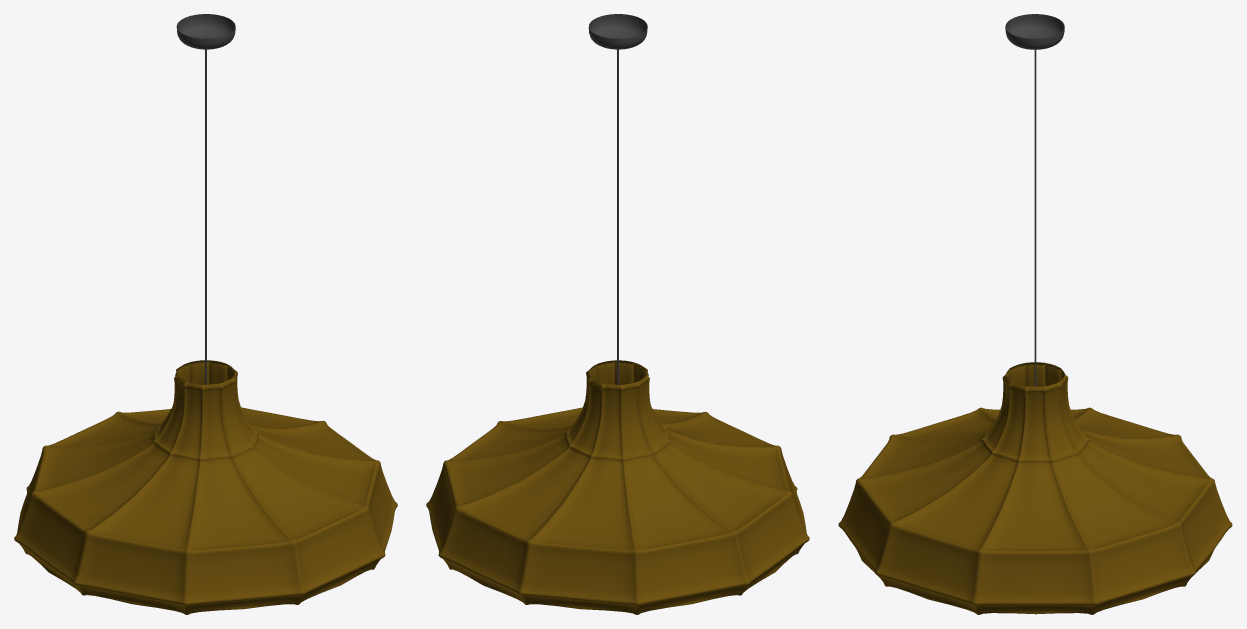
File: lamp_01.fbx
3 renders of one model, left to right at view 1: azimuth 30°, elevation 25°; view 2: azimuth 150°, elevation 25°; view 3: azimuth 270°, elevation 25°, orthographic.
Visible parts, largest first — view 1: Circle.002, Circle.006, Cylinder; view 2: Circle.002, Circle.006, Cylinder; view 3: Circle.002, Circle.006, Cylinder.
Part boxes in pixels (x1=…): Circle.002: x1=14, y1=360, x2=397, y2=614; Circle.006: x1=176, y1=14, x2=235, y2=49; Cylinder: x1=205, y1=37, x2=206, y2=384; Circle.002: x1=426, y1=360, x2=809, y2=614; Circle.006: x1=588, y1=14, x2=647, y2=49; Cylinder: x1=617, y1=37, x2=618, y2=384; Circle.002: x1=838, y1=362, x2=1232, y2=614; Circle.006: x1=1005, y1=14, x2=1064, y2=49; Cylinder: x1=1034, y1=37, x2=1036, y2=386.
Bounding box in the file's own units: 194 × 294 × 204.
